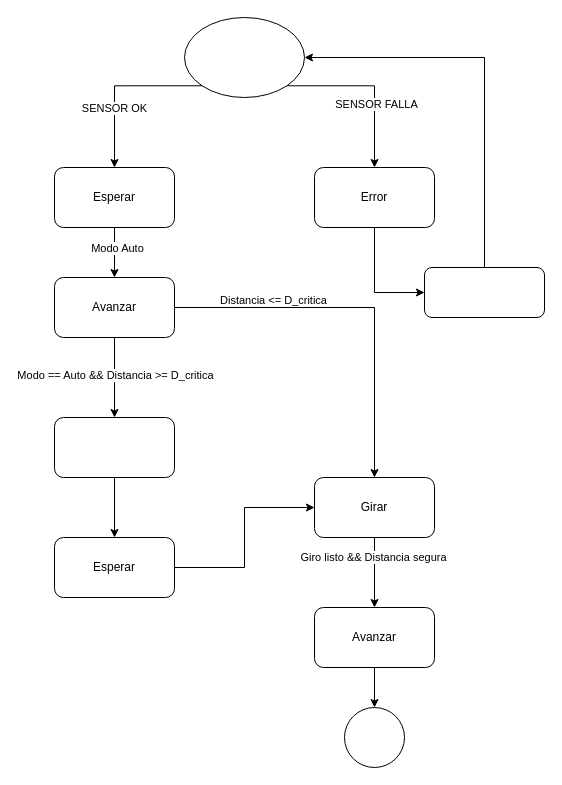
The diagram is 562 pixels wide and 785 high, and some of its shapes have lost their labels. The centre of each missing label's shape, as x and y in pixels:
"Inicio" goes at (244,57).
"Reset Sistema" goes at (484,292).
"Retroceder" goes at (114,447).
